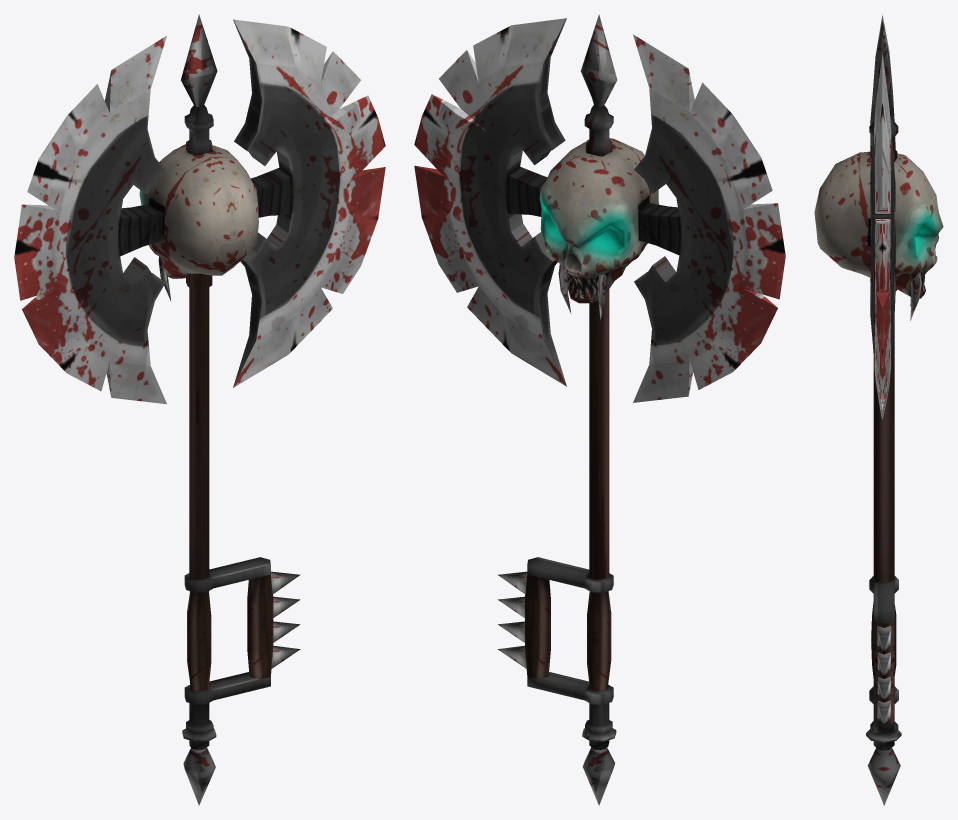
File: sender.fbx
The picture shows the model from 3 angles, left to right: view 1: azimuth 30°, elevation 25°; view 2: azimuth 150°, elevation 25°; view 3: azimuth 270°, elevation 25°; orthographic projection.
Parts seen in each view (by area): view 1: polySurface5, polySurface3; view 2: polySurface5, polySurface3; view 3: polySurface3, polySurface5.
Part boxes in pixels (left/top/right/bottom): polySurface5: left=14, top=19, right=385, bottom=668; polySurface3: left=139, top=14, right=273, bottom=805; polySurface5: left=414, top=18, right=785, bottom=668; polySurface3: left=525, top=14, right=658, bottom=805; polySurface3: left=814, top=24, right=943, bottom=805; polySurface5: left=870, top=14, right=895, bottom=724.
Size of the model in its own units: 0.6371 by 1.3 by 0.194.
Materials: 1 (1 with a texture image).
